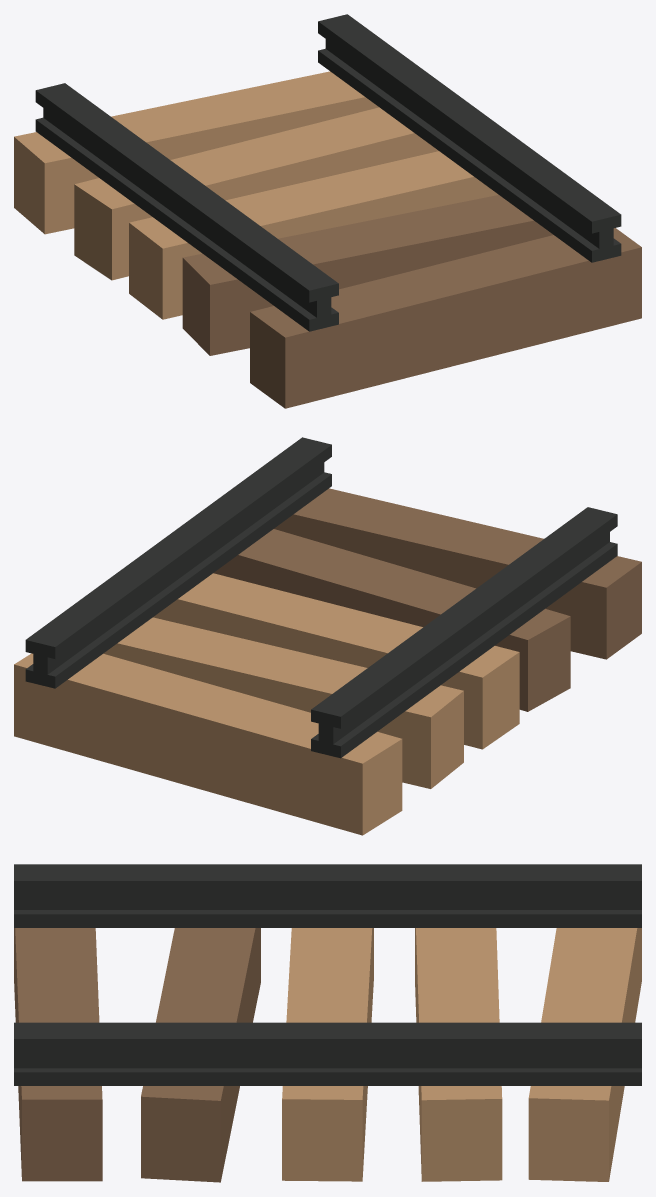
File: railroad.fbx
3 views of the same model, one above another, from view 1: azimuth 30°, elevation 25°; view 2: azimuth 150°, elevation 25°; view 3: azimuth 270°, elevation 25° (orthographic). The views are drawn at different scales.
Visible parts, largest first — view 1: railroad_LOD0; view 2: railroad_LOD0; view 3: railroad_LOD0.
Boxes of the visible parts, box(x1,y1,x2,y2) form: railroad_LOD0: box(14, 14, 641, 408); railroad_LOD0: box(14, 437, 641, 835); railroad_LOD0: box(14, 864, 641, 1182).
Size of the model in its own units: 2.03 by 0.5954 by 2.63.
